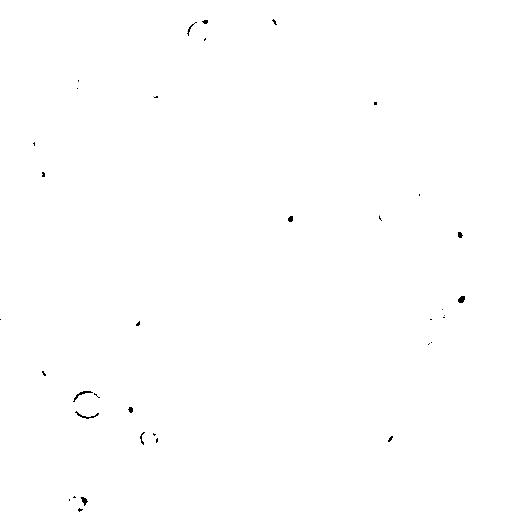micro-algae: (37, 10, 114, 83), (33, 201, 106, 271), (207, 461, 289, 511), (298, 433, 359, 492), (353, 383, 413, 435), (422, 317, 467, 361), (93, 311, 135, 353), (307, 287, 348, 330), (271, 116, 311, 158), (114, 21, 155, 61), (443, 282, 483, 315), (203, 13, 237, 47), (276, 199, 307, 233), (72, 389, 106, 419), (375, 421, 404, 455), (114, 391, 145, 422), (337, 109, 367, 141), (304, 178, 333, 211), (186, 15, 217, 45), (54, 264, 87, 292), (209, 169, 237, 201), (493, 453, 512, 499), (172, 495, 226, 511), (93, 241, 125, 268), (73, 70, 99, 100), (447, 217, 471, 247), (253, 490, 287, 511), (109, 376, 136, 402), (221, 257, 246, 284), (419, 339, 446, 363), (473, 297, 496, 325), (25, 62, 47, 91), (331, 469, 355, 495), (362, 91, 386, 116), (297, 454, 326, 474), (253, 15, 276, 40), (132, 349, 154, 374), (409, 179, 429, 205), (453, 371, 473, 397), (204, 285, 223, 312), (424, 305, 447, 327), (272, 138, 295, 159), (498, 362, 511, 399), (62, 493, 87, 511), (377, 207, 397, 229), (140, 427, 160, 449), (417, 1, 449, 13), (4, 69, 22, 89), (17, 133, 37, 151), (43, 363, 61, 383), (102, 489, 123, 506), (25, 166, 47, 181), (127, 309, 143, 328)
